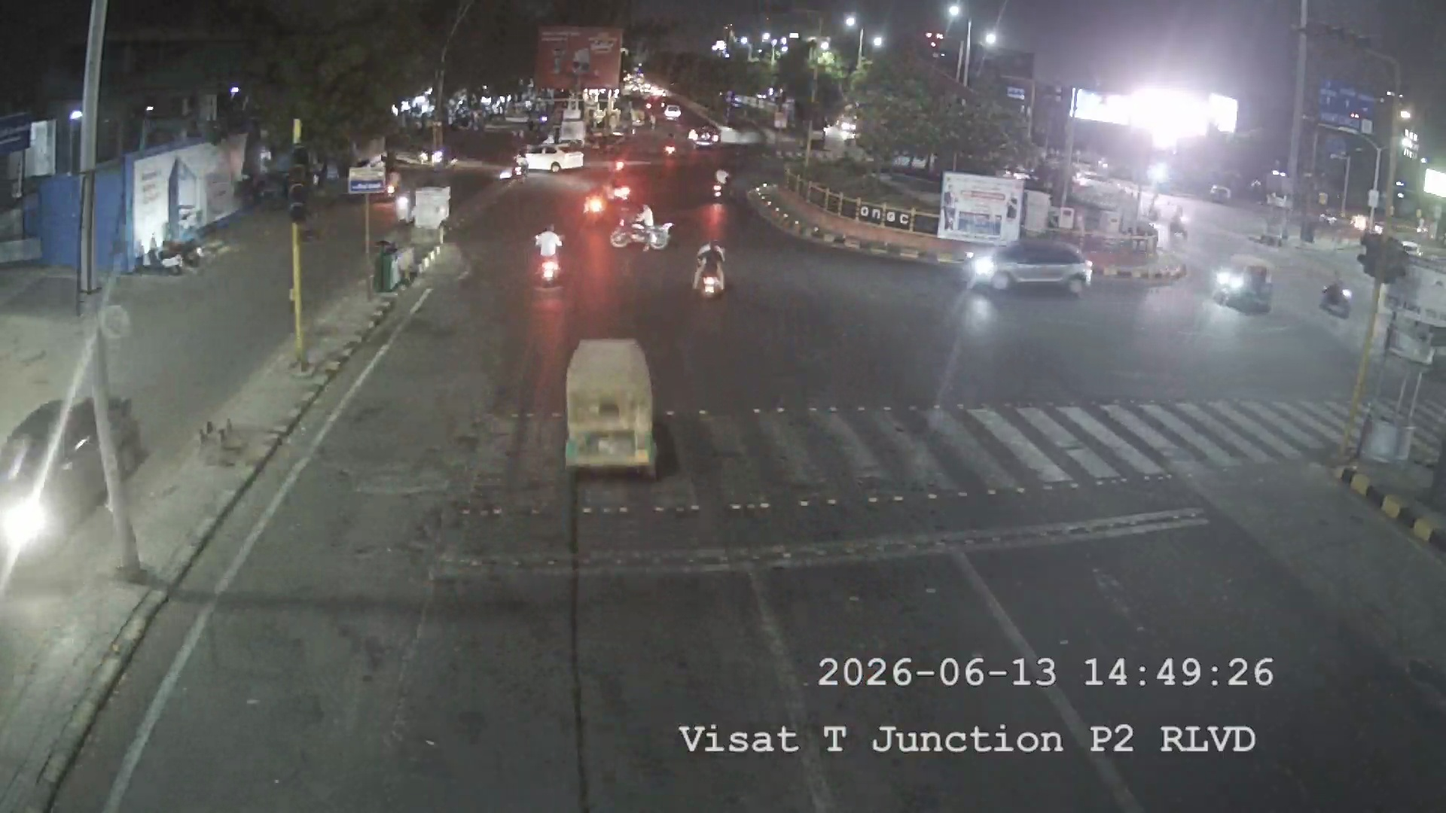auto_rickshaw: (560, 327, 658, 472), (1210, 252, 1280, 318)
car: (980, 231, 1096, 297), (515, 136, 588, 173), (344, 159, 388, 195)
truck: (0, 272, 144, 612)
two_wheeler: (609, 194, 668, 253), (526, 219, 570, 290), (690, 235, 732, 302), (958, 242, 999, 296), (1315, 271, 1355, 323), (577, 177, 612, 226), (391, 183, 418, 229), (706, 160, 732, 207)
